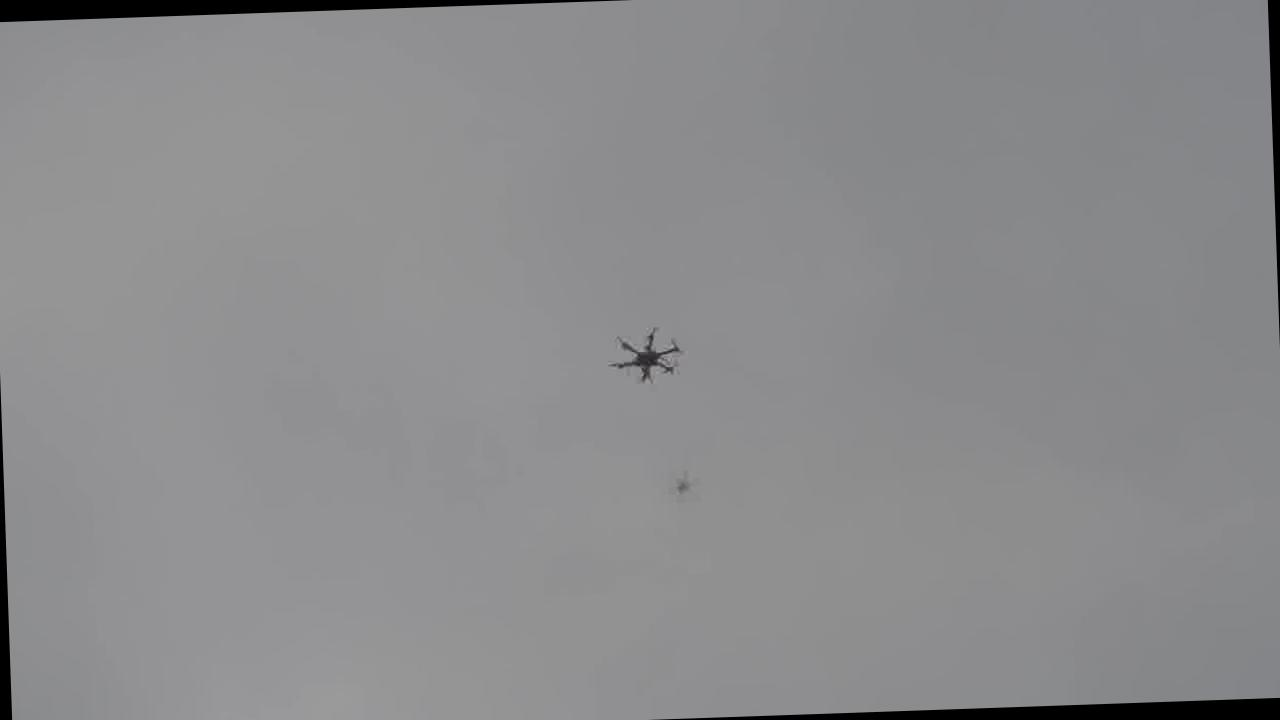drone: (606, 322, 684, 384)
